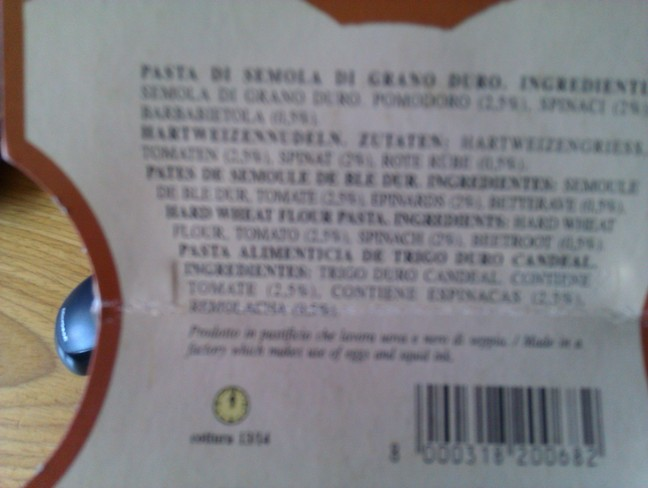barcode: (371, 373, 629, 472)
